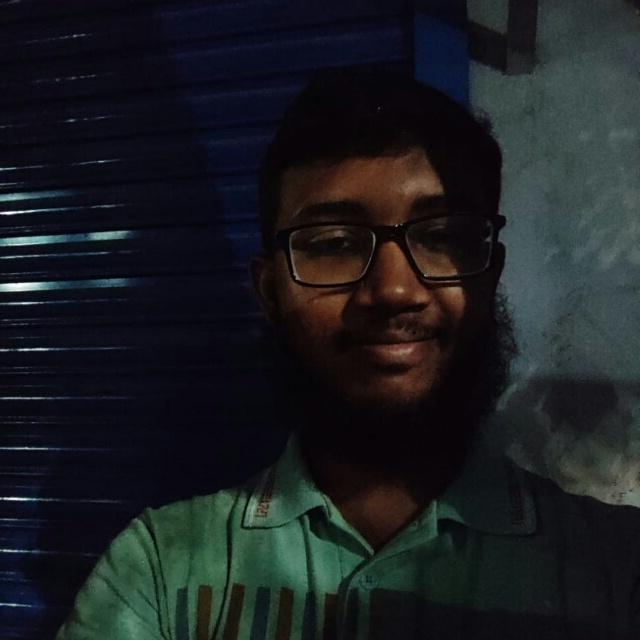Happy: (199, 82, 550, 462)
